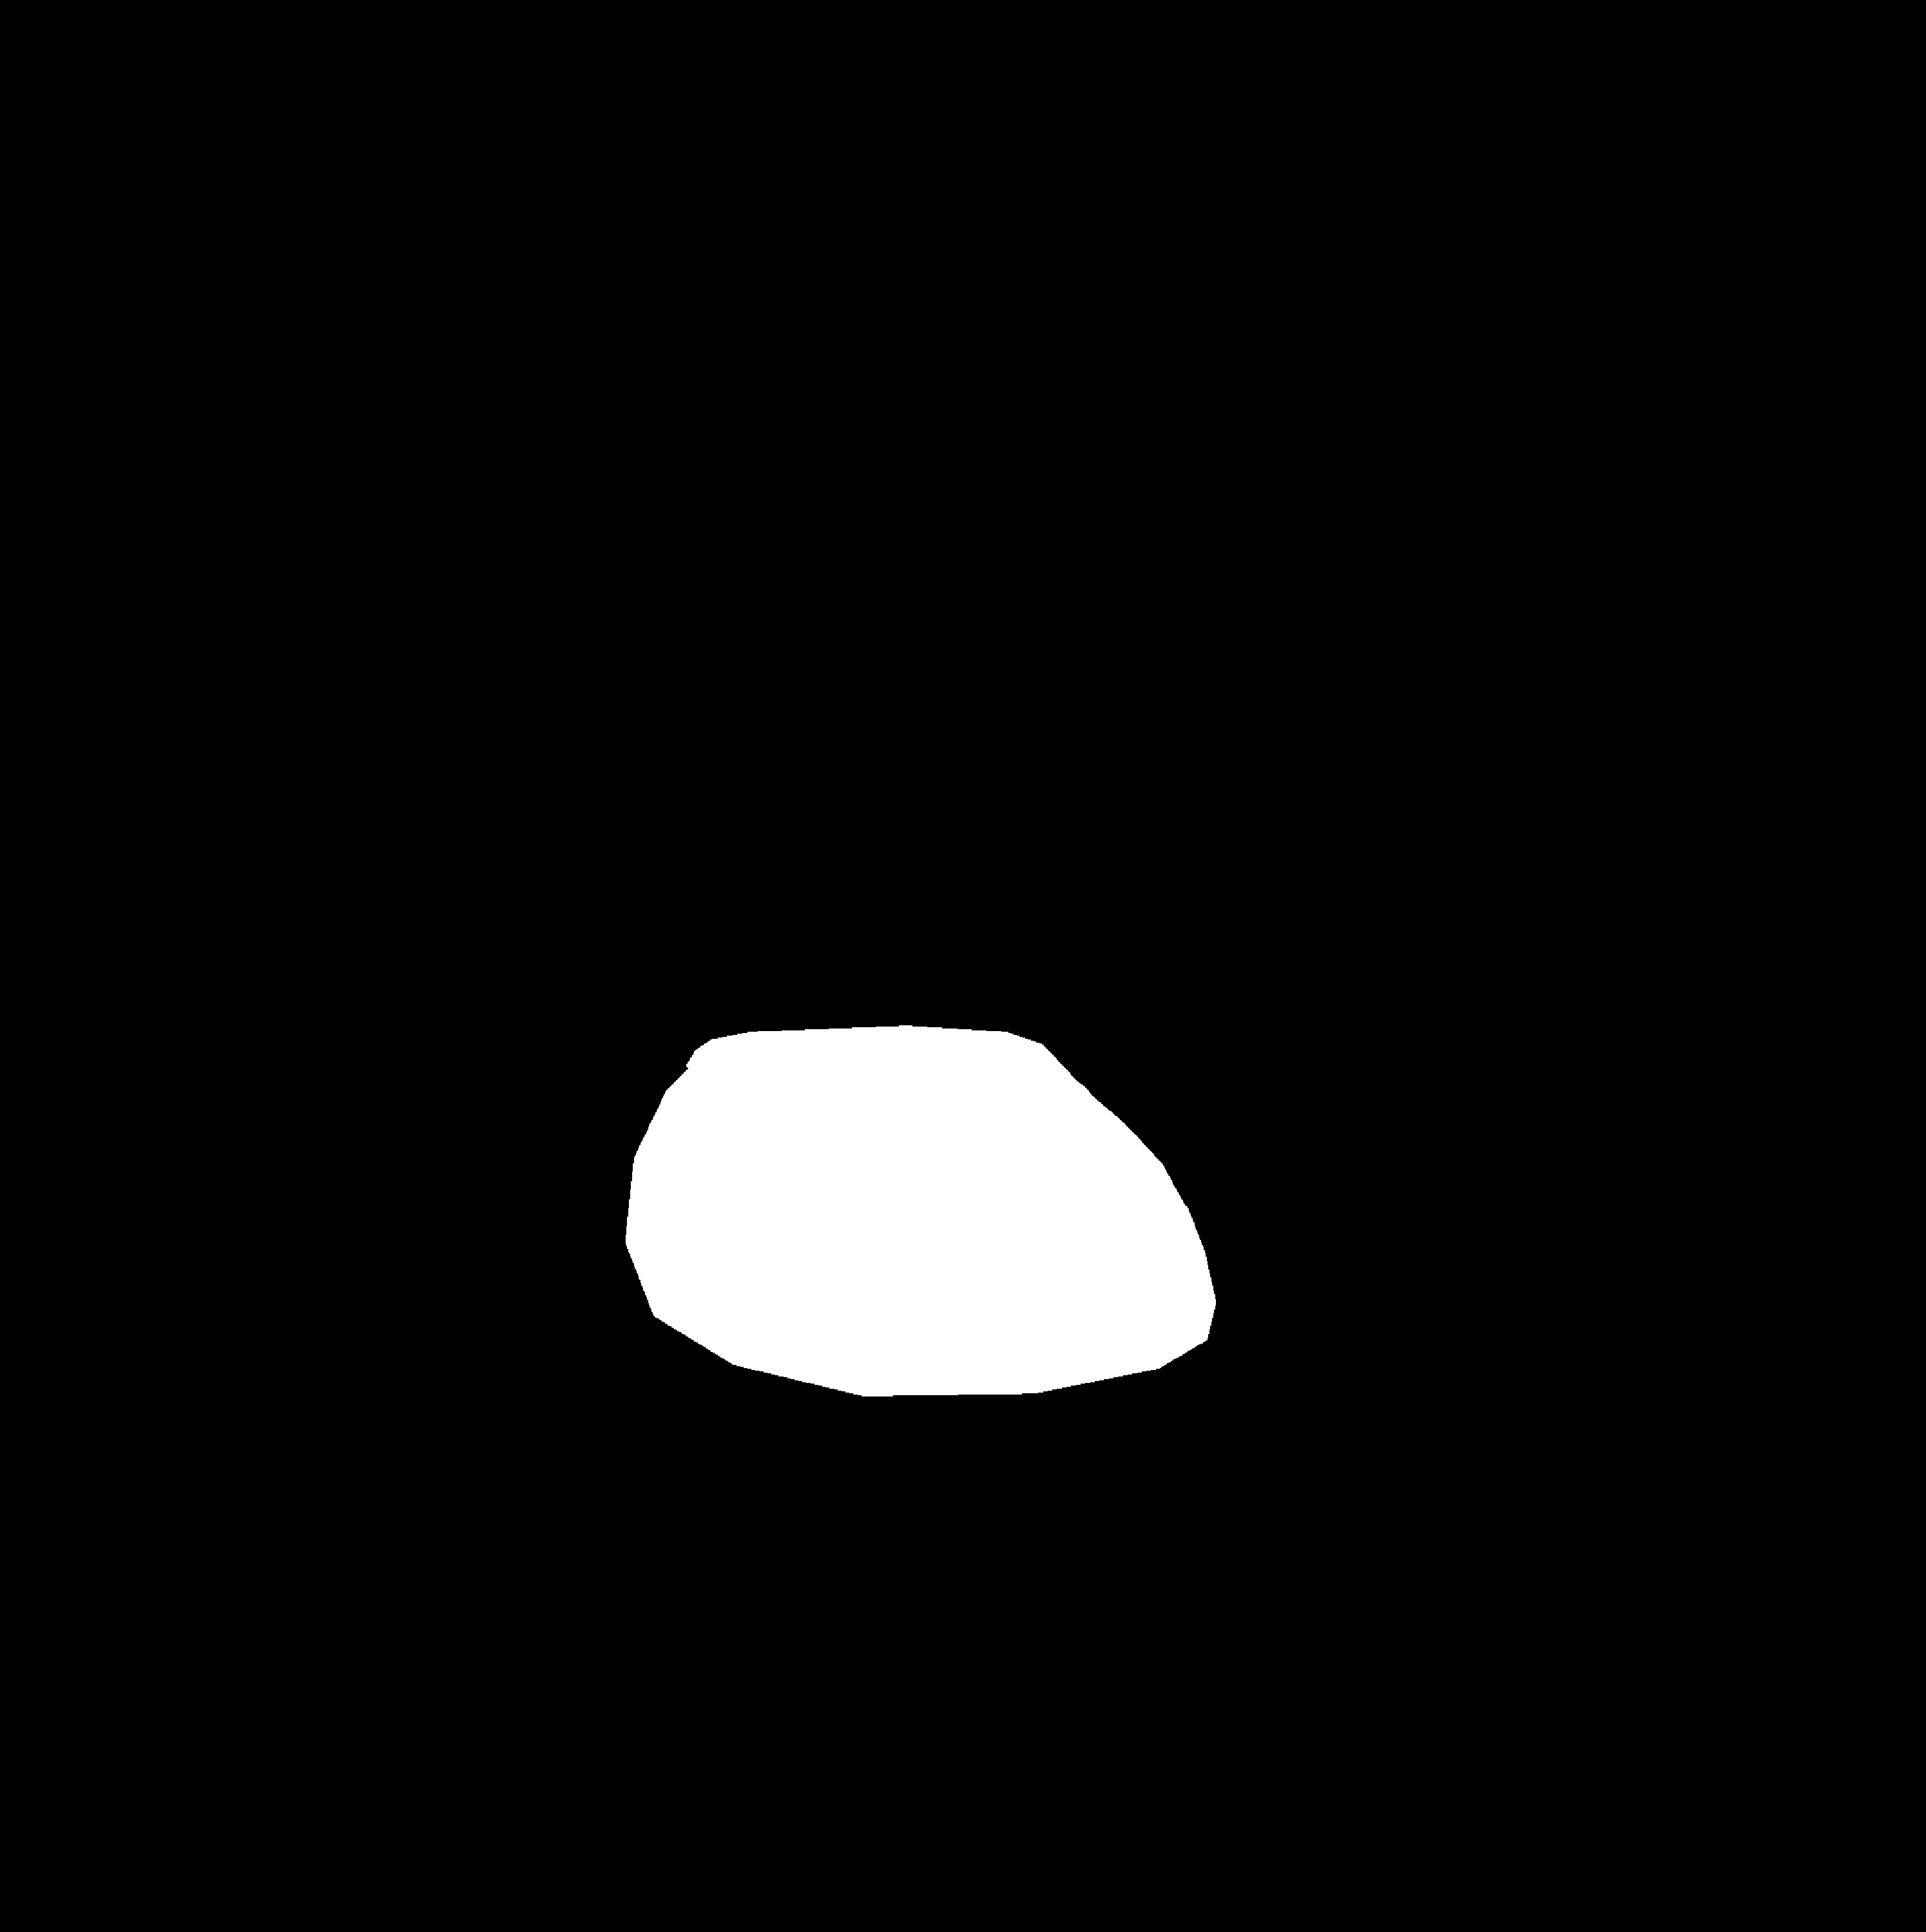heart: (616, 1036, 1233, 1427)
left_lung: (222, 323, 795, 1531)
right_lung: (926, 335, 1494, 1466)
